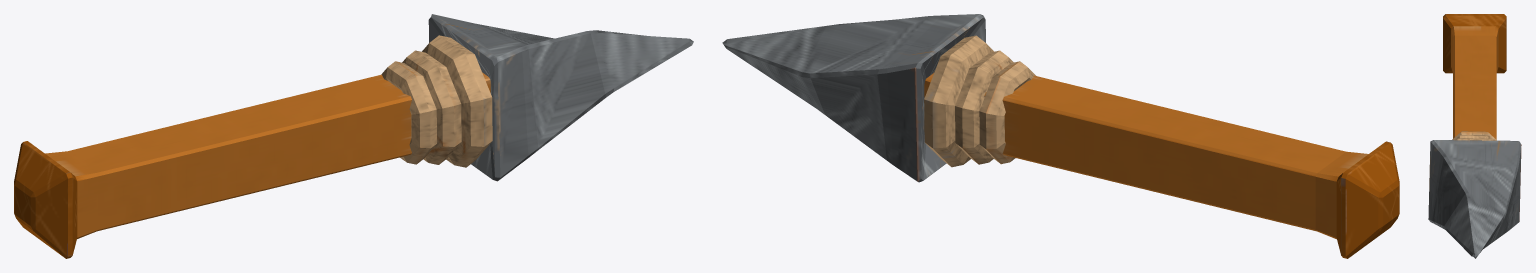
File: flecha.obj
The picture shows the model from 3 angles, left to right: view 1: azimuth 30°, elevation 25°; view 2: azimuth 150°, elevation 25°; view 3: azimuth 270°, elevation 25°; orthographic projection. The views are drawn at different scales.
Visible parts, largest first — view 1: flecha_obj_Cube; view 2: flecha_obj_Cube; view 3: flecha_obj_Cube.
Part boxes in pixels (box(x1,y1,x2,y2)): flecha_obj_Cube: box(14, 14, 693, 258); flecha_obj_Cube: box(722, 14, 1399, 258); flecha_obj_Cube: box(1428, 14, 1521, 258).
Size of the model in its own units: 24.67 by 4.37 by 4.37.
Materials: 1 (1 with a texture image).
